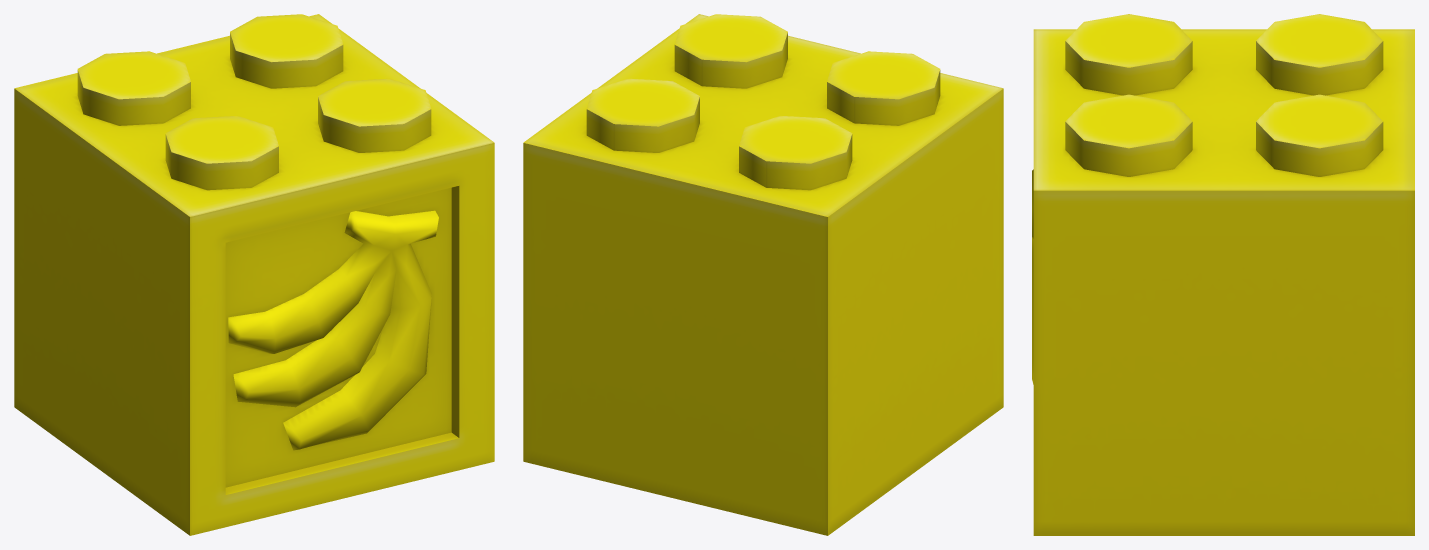
The model's file is block_yellow.fbx.
3 renders of one model, left to right at view 1: azimuth 30°, elevation 25°; view 2: azimuth 150°, elevation 25°; view 3: azimuth 270°, elevation 25°, orthographic. The views are drawn at different scales.
Parts seen in each view (by area): view 1: block_yellow; view 2: block_yellow; view 3: block_yellow.
Part boxes in pixels (<box>): block_yellow: <box>14,14,494,535</box>; block_yellow: <box>523,14,1003,535</box>; block_yellow: <box>1032,14,1414,535</box>.
Size of the model in its own units: 60 by 65 by 60.26.
